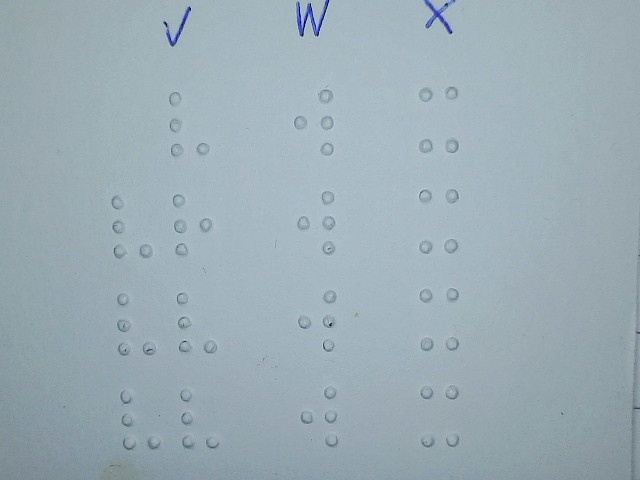V: (167, 90, 212, 158), (110, 193, 155, 261), (175, 288, 220, 356), (178, 386, 223, 450), (117, 387, 162, 451)
W: (292, 87, 335, 156), (294, 187, 337, 256), (296, 287, 339, 356), (298, 382, 341, 451)
X: (417, 84, 460, 153), (417, 185, 460, 254), (418, 284, 461, 353), (418, 381, 461, 450)
